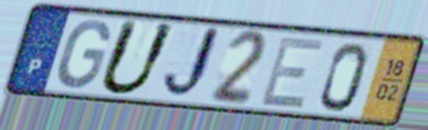0: (318, 40, 373, 114)
2: (207, 28, 269, 107)
E: (256, 35, 328, 111)
G: (54, 18, 113, 91)
J: (159, 24, 225, 104)
U: (94, 17, 179, 99)
